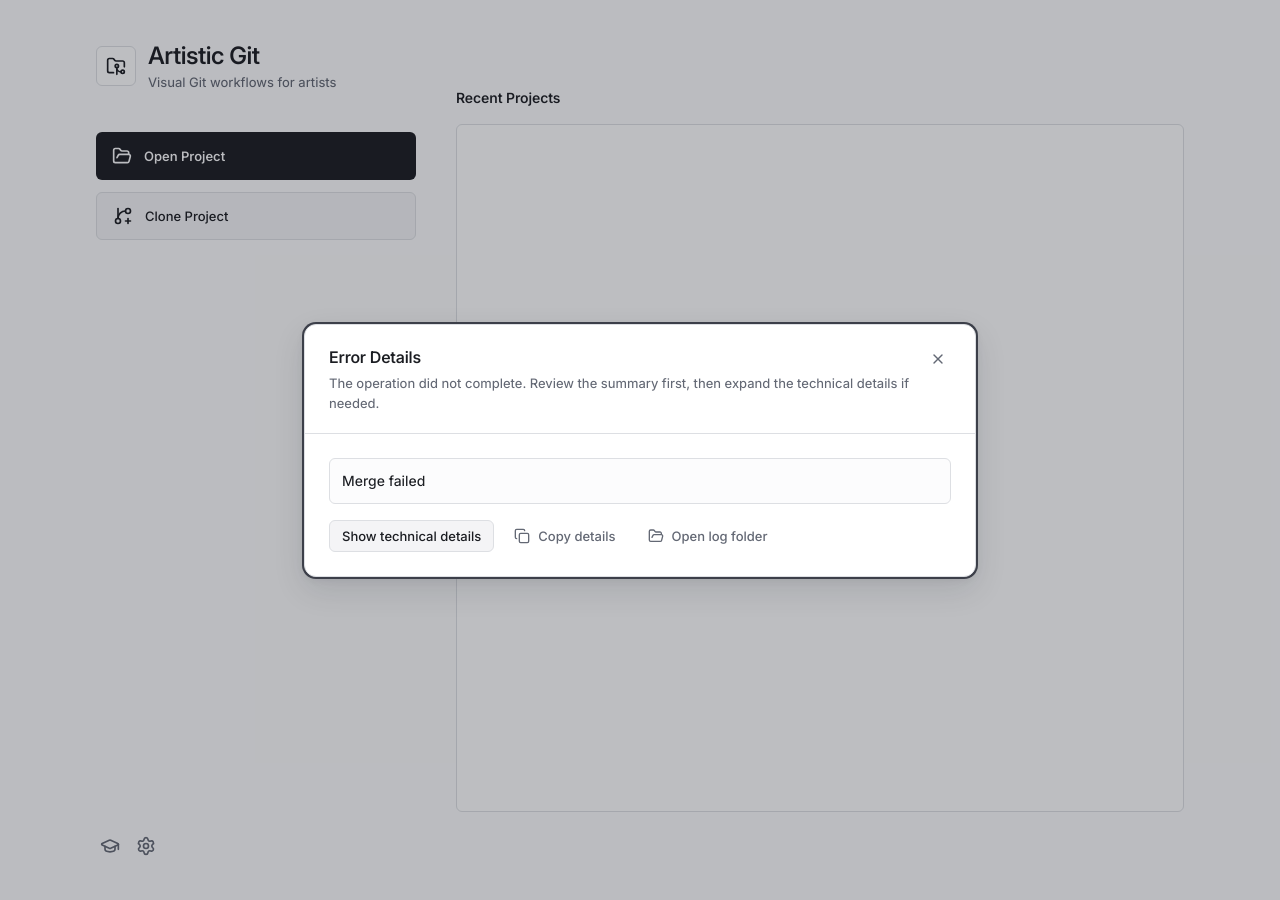
Test: App › preserves structured details in global error dialogs
Expected: the dialog "Error Details" shows "Merge failed", [342,472,425,488]
Click the button "Show technical details" at x=412, y=536, box [329,520,494,552]
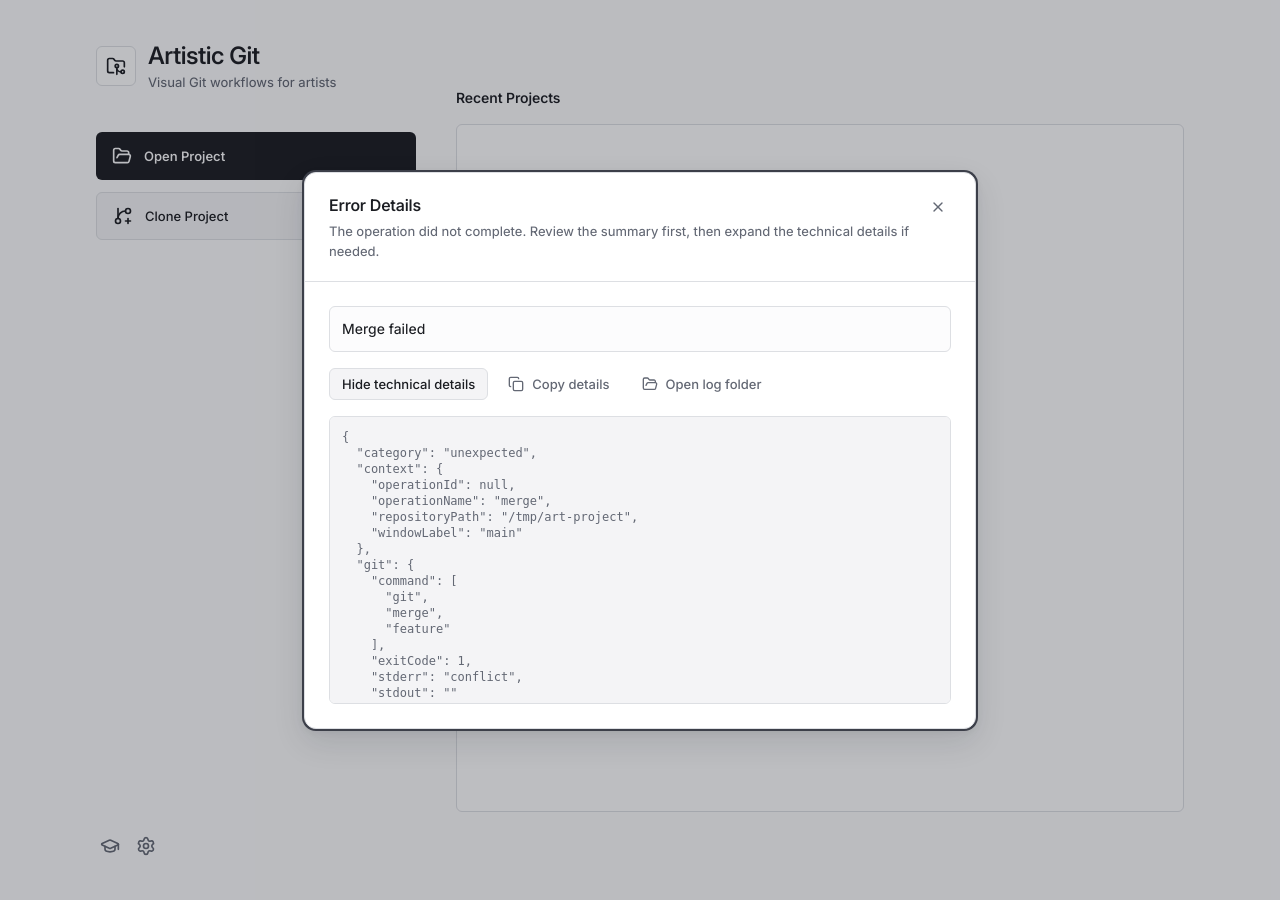
Now the dialog "Error Details" shows "\"command\": [", box [342,430,638,748]
Now the dialog "Error Details" shows "\"stderr\": \"conflict\"", box [342,430,638,748]
